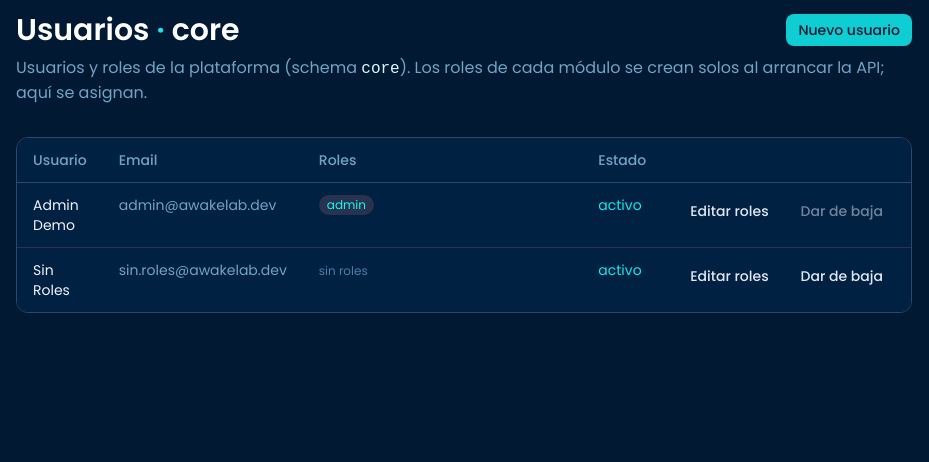
Scenario: UsersPage (asignación de roles sin SQL — incremento D, bloque 2) › si el rol no existe en la BD, muestra el error de la API y deja el editor abierto
The image size is (929, 462).
Expected: the table with test id "users-table" is shown, [17,138,911,312]
Click the button "Editar roles" in the row of "sin.roles@awakelab.dev" at x=730, y=276, box [678,260,781,292]
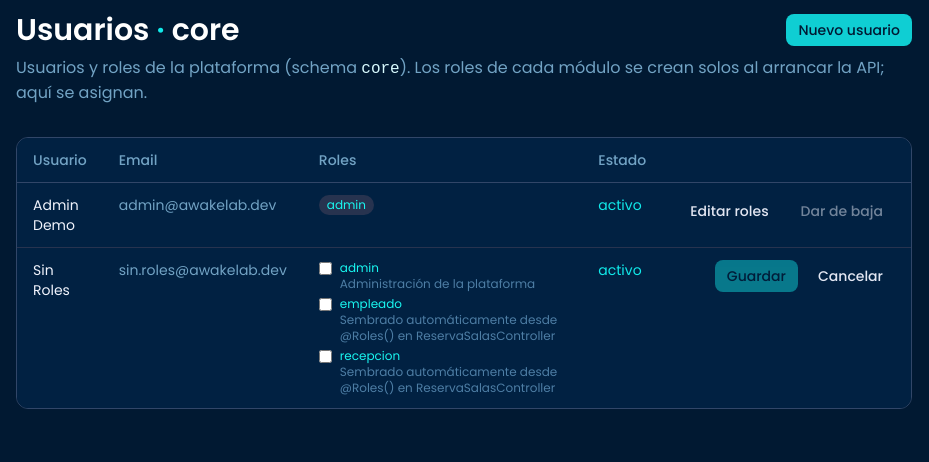
Now the element with test id "roles-editor-u-2" is shown, box [319,260,566,396]
Click the checkbox labelled "empleado" at x=325, y=304, box [319,298,332,311]
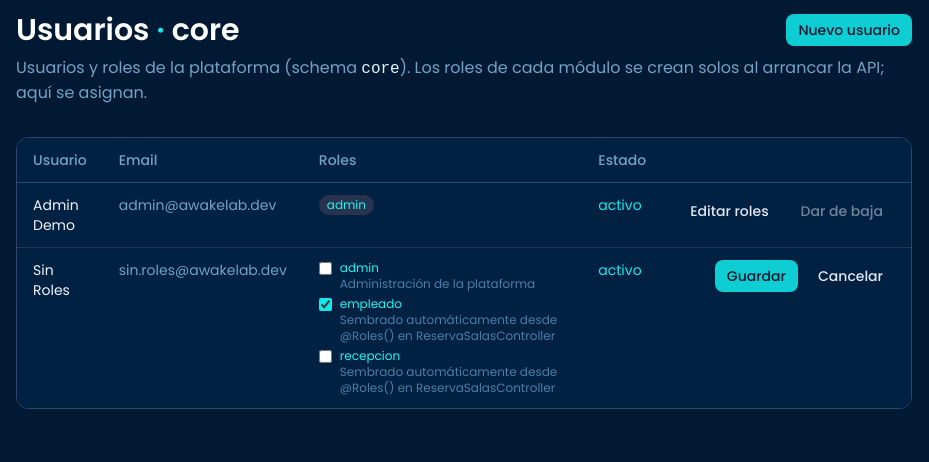
Click the button "Guardar" at x=756, y=276, box [715,260,798,292]
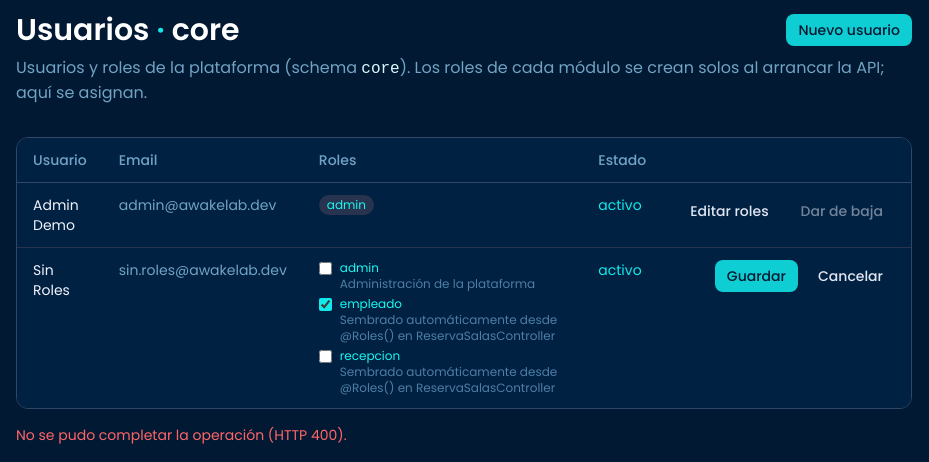
Now the element with test id "roles-editor-u-2" is shown, box [319,260,566,396]
Now the text "No se pudo completar la operación (HTTP 400)." is shown, box [16,425,347,445]
